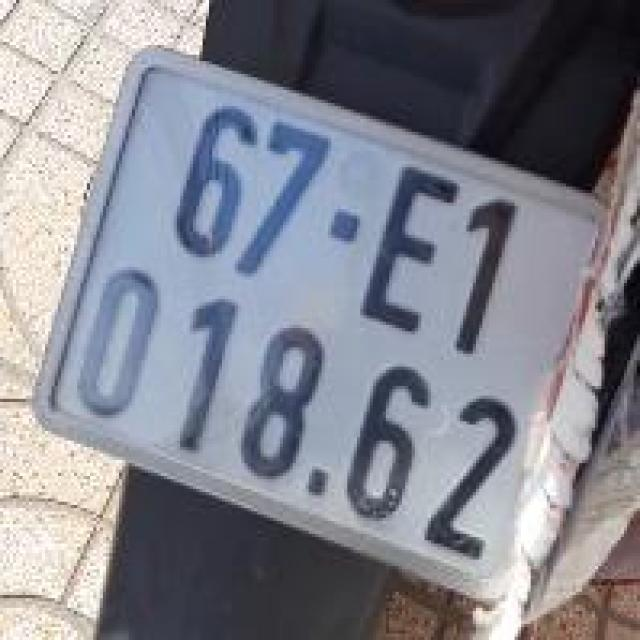0: (65, 257, 175, 431)
1: (433, 184, 543, 370), (161, 279, 256, 463)
2: (413, 382, 542, 566)
6: (158, 91, 274, 270), (333, 354, 445, 532)
7: (222, 113, 351, 293)
8: (225, 309, 343, 495)
E: (347, 159, 476, 345)
